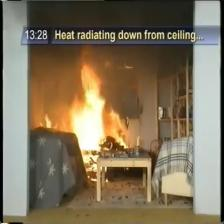fire: (70, 64, 130, 149), (45, 113, 51, 128)
